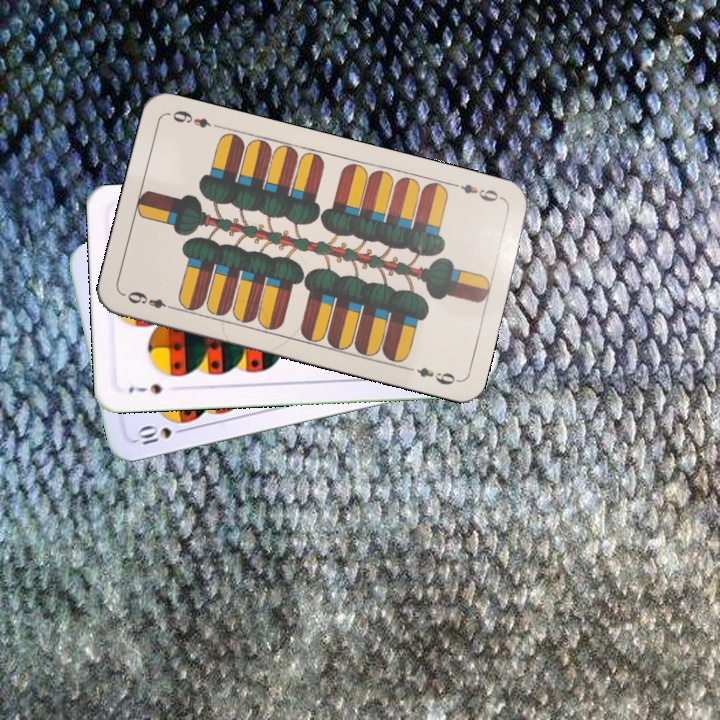E9: (448, 179, 506, 205), (123, 287, 178, 313)
S10: (132, 422, 191, 448)
S7: (125, 380, 165, 398)
